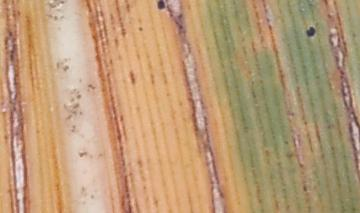tarspot: (305, 25, 317, 38), (157, 1, 166, 10)
